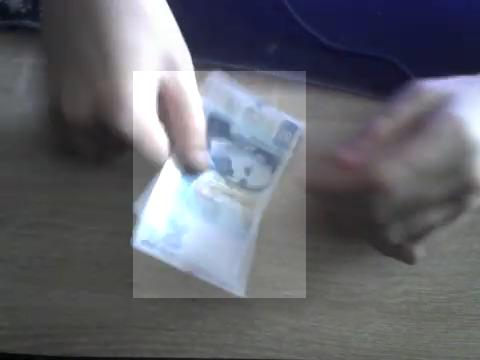20leva: (133, 71, 306, 298)
